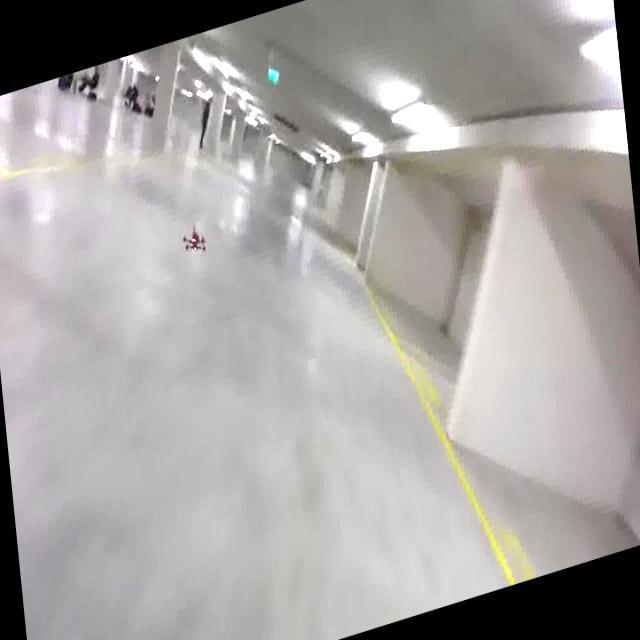drone: (174, 211, 211, 265)
